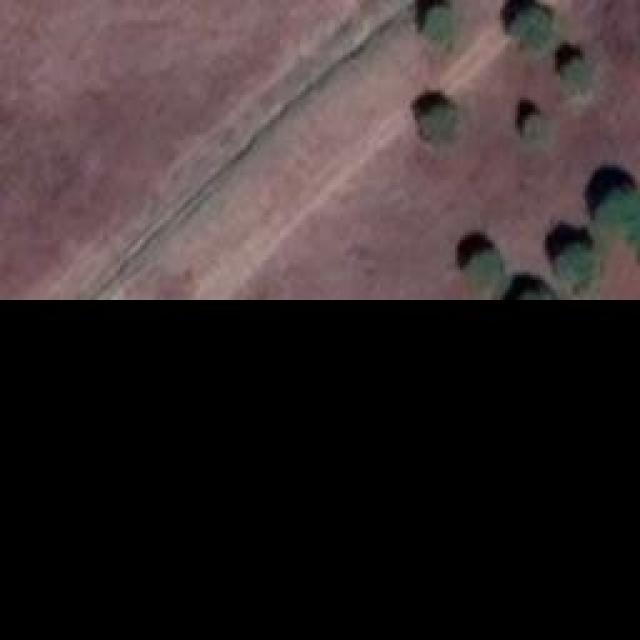Tree: (505, 2, 555, 50), (597, 187, 640, 232), (420, 103, 458, 143), (465, 247, 505, 285), (558, 242, 593, 280), (425, 5, 460, 40), (563, 55, 586, 90), (523, 112, 548, 140)
